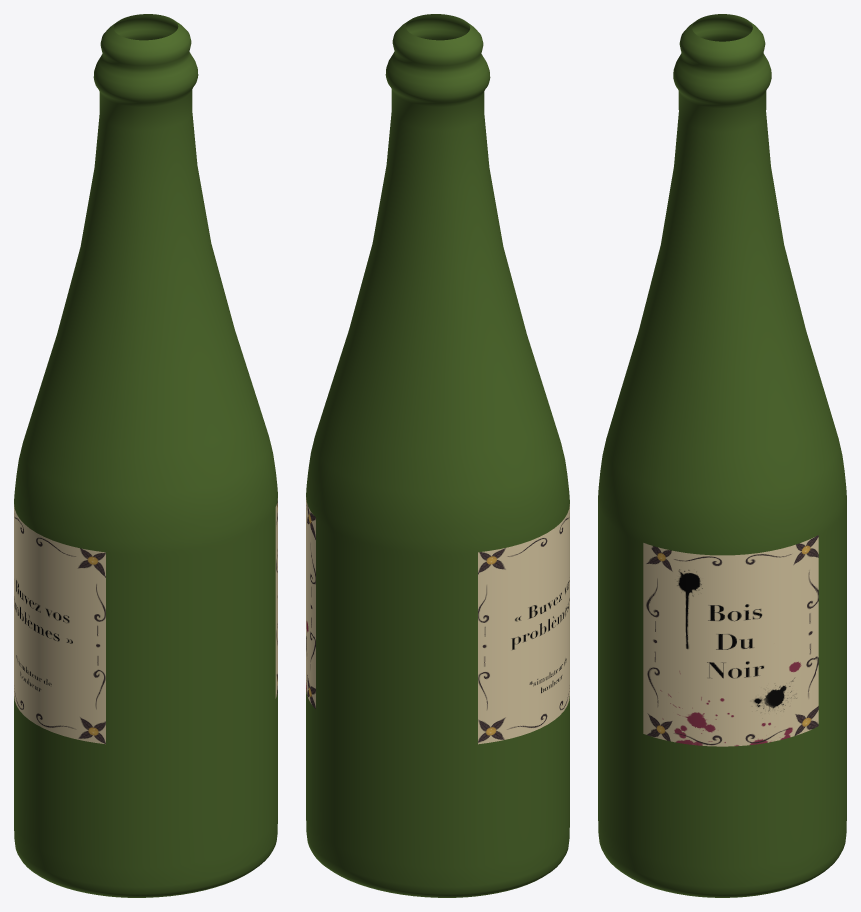
The model's file is boueille path of match 1.fbx.
The picture shows the model from 3 angles, left to right: view 1: azimuth 30°, elevation 25°; view 2: azimuth 150°, elevation 25°; view 3: azimuth 270°, elevation 25°; orthographic projection.
Visible parts, largest first — view 1: bouteille 3; view 2: bouteille 3; view 3: bouteille 3.
Boxes of the visible parts, bbox=[...] form: bouteille 3: bbox=[14, 14, 277, 897]; bouteille 3: bbox=[306, 14, 569, 897]; bouteille 3: bbox=[598, 14, 846, 897].
Bounding box in the file's own units: 122 × 412 × 113.
3 materials, 2 textured.
